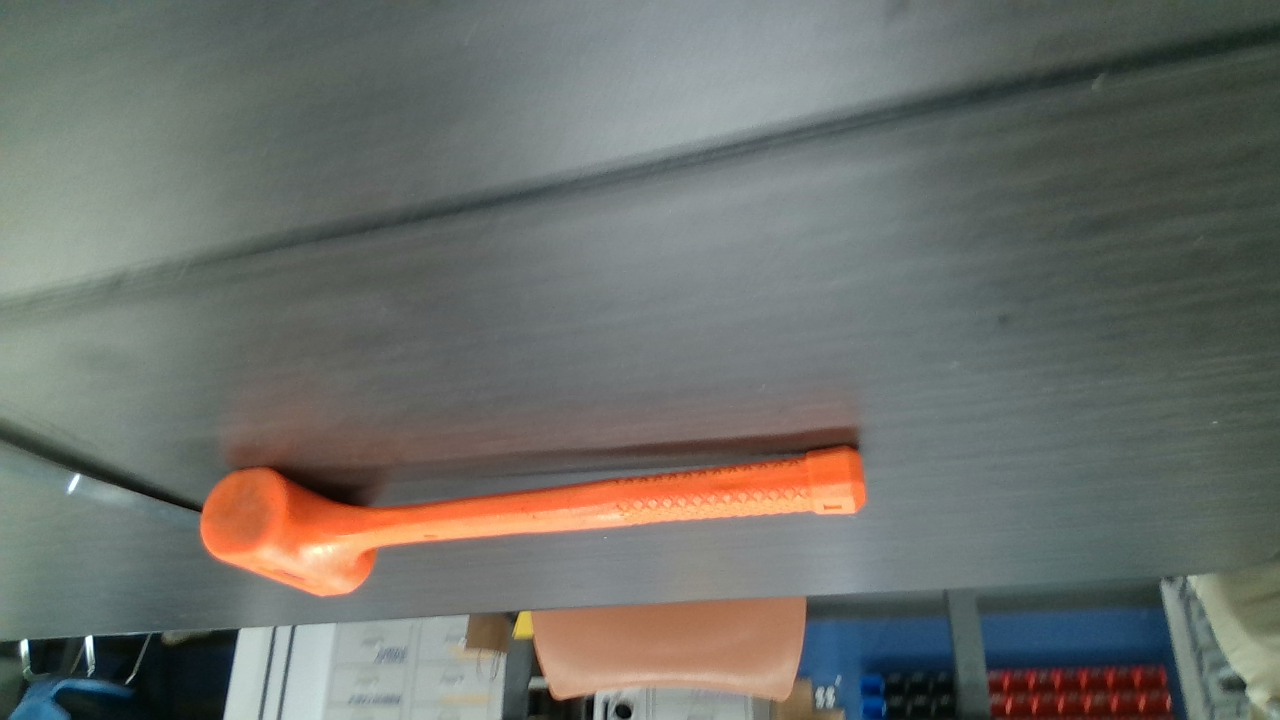Orange Hammer: (204, 443, 867, 596)
